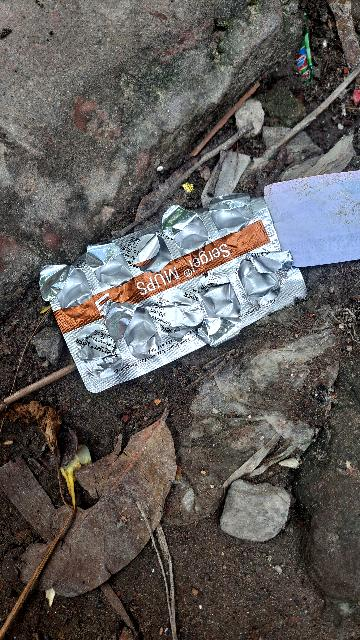medicine: (25, 166, 324, 408)
